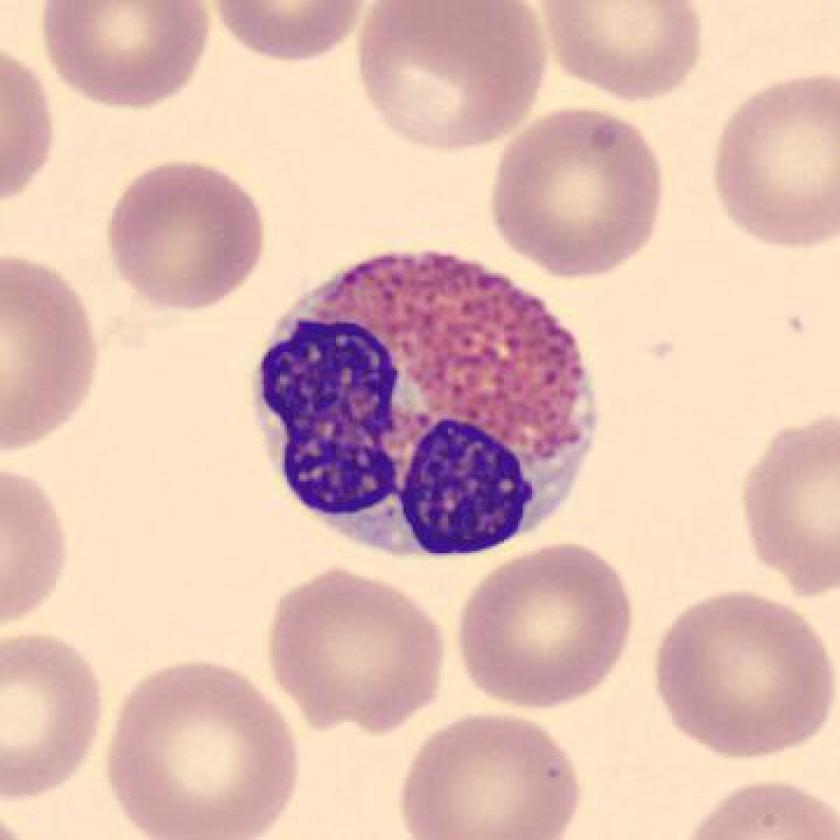eosinophil: (241, 240, 610, 578)
